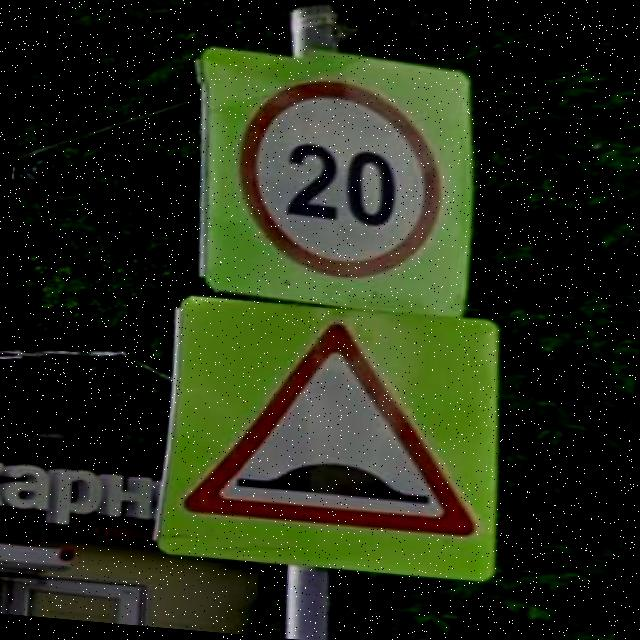Ograniczenie predkosci do 20: (230, 70, 451, 284)
